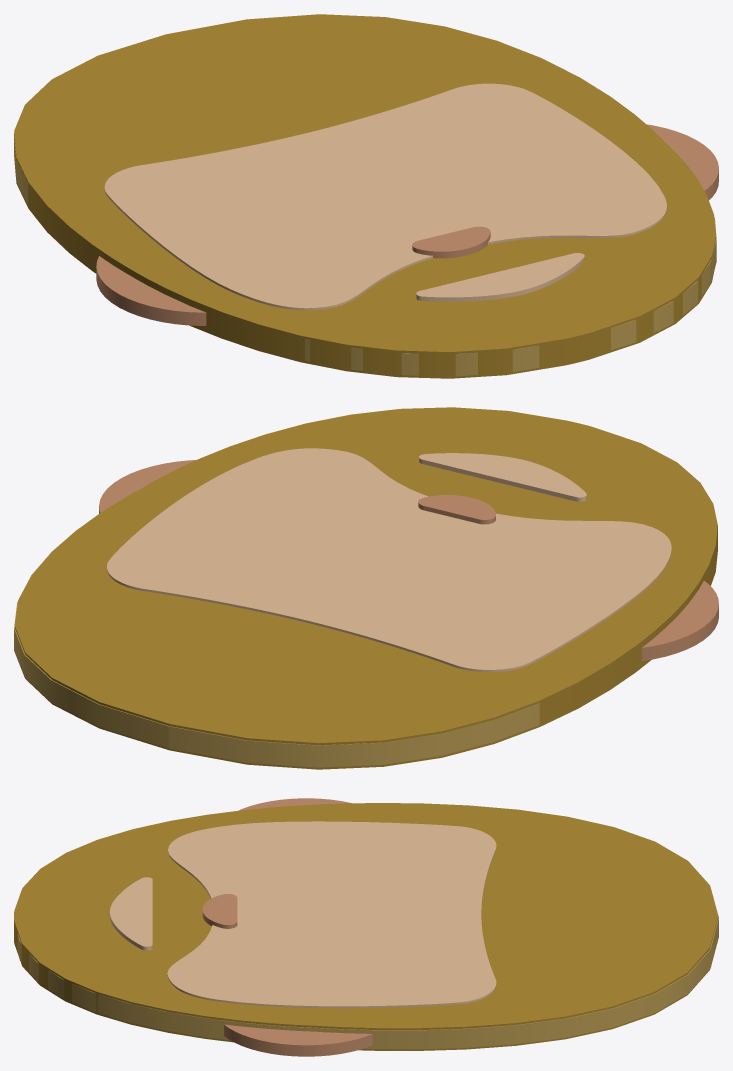
Rendered from emoji_u1f9d4_1f3fc_200d_2642.glb.
The picture shows the model from 3 angles, top to bottom: view 1: azimuth 30°, elevation 25°; view 2: azimuth 150°, elevation 25°; view 3: azimuth 270°, elevation 25°; orthographic projection. The views are drawn at different scales.
Parts seen in each view (by area): view 1: emoji_u1f9d4_1f3fc_200d_2642; view 2: emoji_u1f9d4_1f3fc_200d_2642; view 3: emoji_u1f9d4_1f3fc_200d_2642.
Part boxes in pixels (bbox=[...]): emoji_u1f9d4_1f3fc_200d_2642: bbox=[14, 14, 718, 378]; emoji_u1f9d4_1f3fc_200d_2642: bbox=[14, 407, 718, 769]; emoji_u1f9d4_1f3fc_200d_2642: bbox=[14, 798, 718, 1056].
Size of the model in its own units: 0.028 by 0.0018 by 0.0337.
